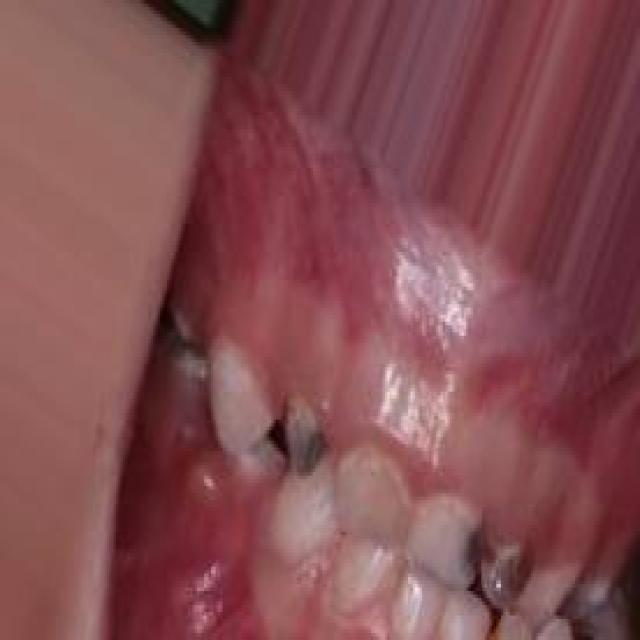caries: (482, 533, 532, 618), (280, 398, 328, 486), (443, 502, 486, 580)
